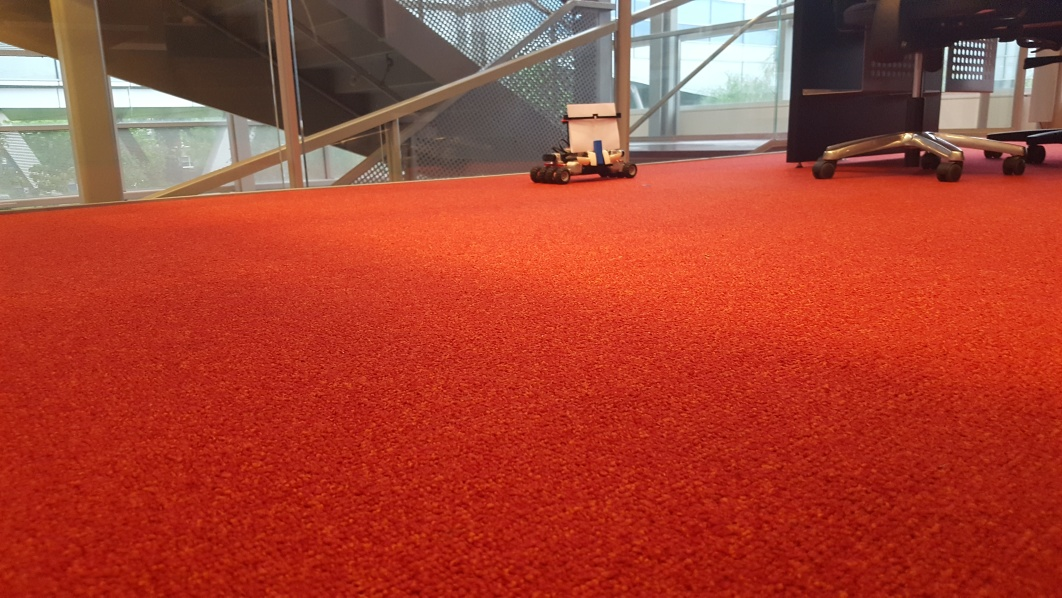car: (530, 101, 640, 188)
